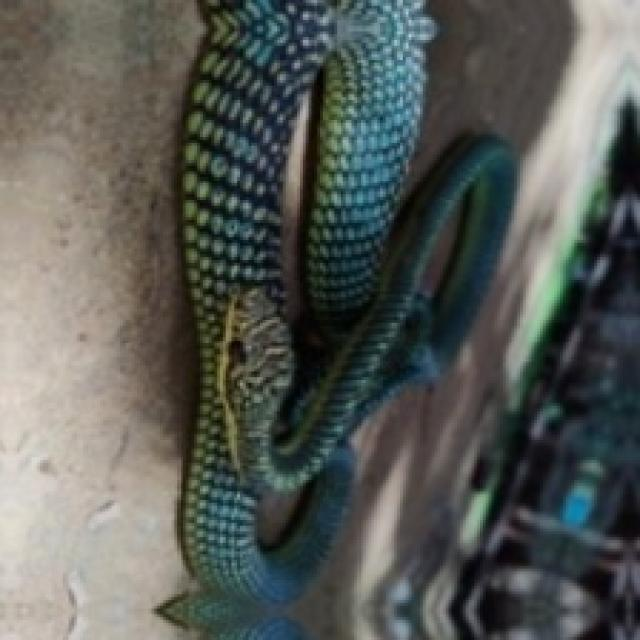paradise tree snake: (160, 0, 511, 637)
